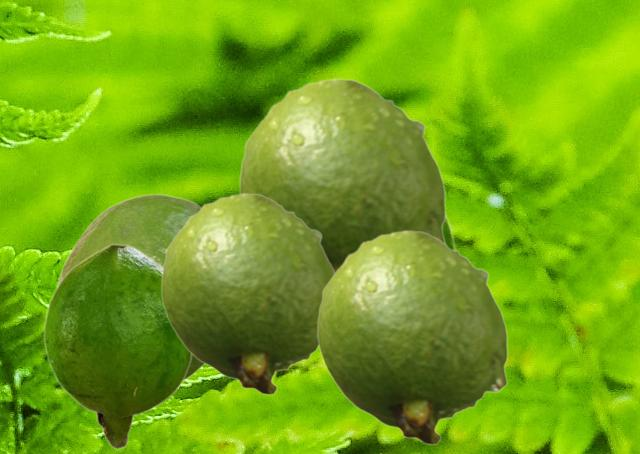guava: (316, 229, 507, 444), (238, 77, 445, 269), (160, 192, 334, 394), (43, 243, 192, 449), (56, 193, 205, 381)
